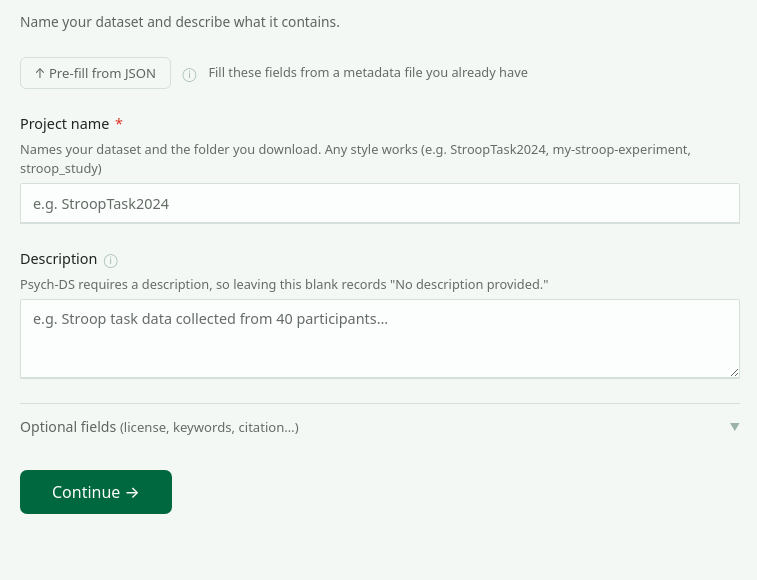
ProjectInfo › Continue validation › shows error and does not proceed when name is empty
Click the button "Continue →". click: (96, 492)
box: [20, 470, 172, 514]
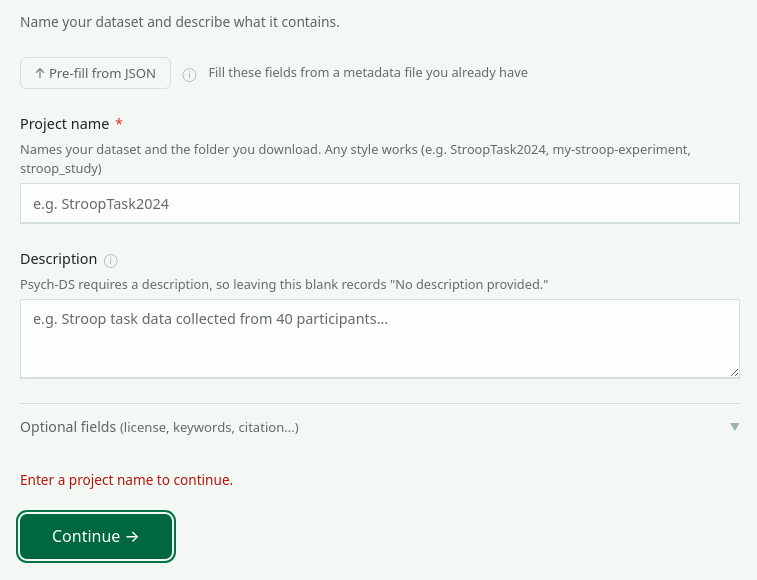
Expected: the text "Enter a project name to continue." is shown, [20, 470, 233, 489]
